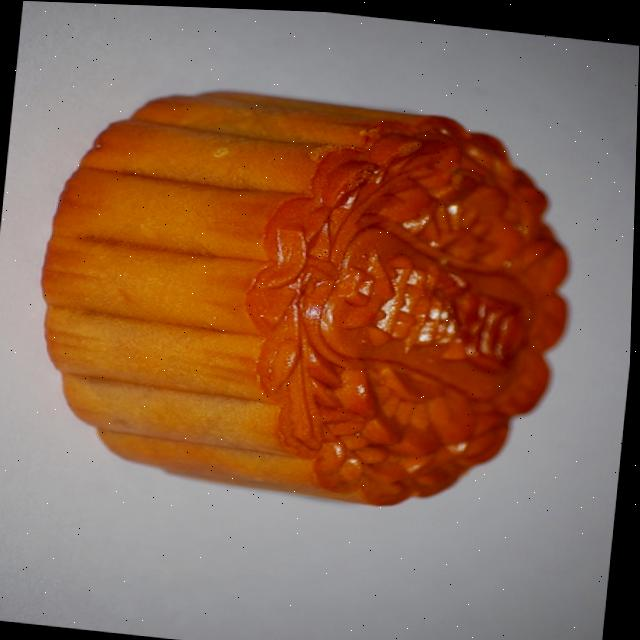蛋糕甜品: (27, 43, 614, 560)
